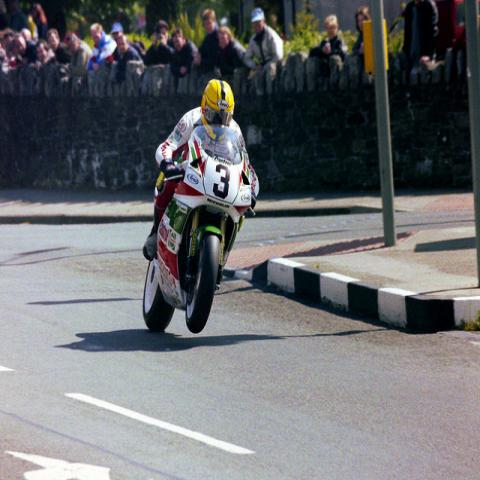motorcycle: (136, 132, 251, 339)
